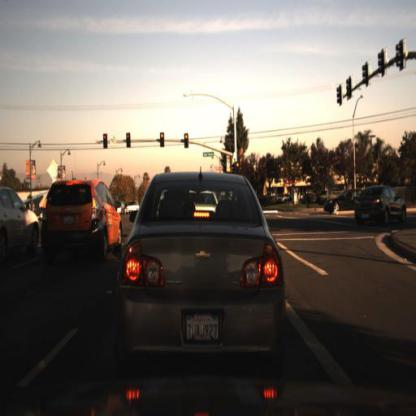car: (120, 173, 286, 370), (40, 176, 123, 272), (1, 192, 40, 263), (355, 186, 406, 230), (323, 189, 373, 216), (322, 187, 355, 220), (125, 198, 142, 216)
trafficLight-Red: (184, 131, 193, 150), (160, 132, 167, 150), (234, 157, 242, 172), (103, 133, 111, 146), (126, 130, 134, 143)
trafficLight-RedLeft: (125, 128, 133, 150), (101, 132, 109, 151)
